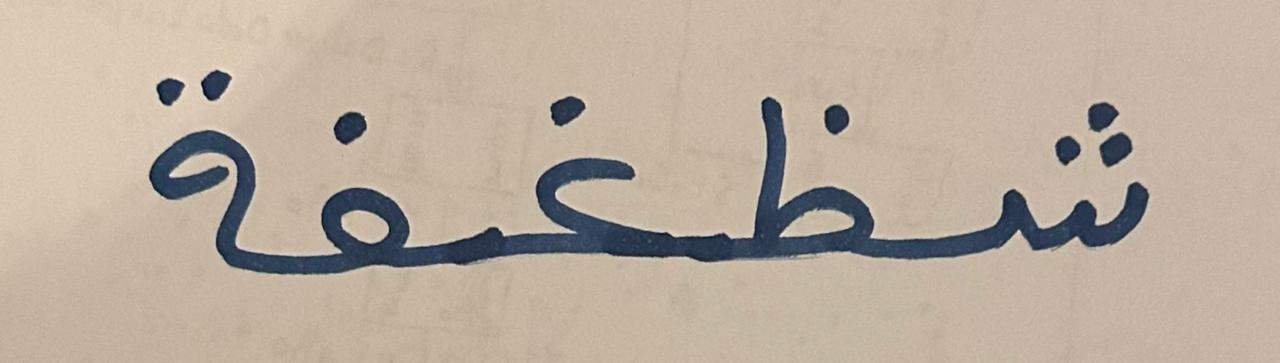feh: (283, 51, 450, 315)
ghain: (455, 7, 703, 316)
tah: (915, 36, 1193, 317)
thal: (107, 7, 279, 302)
zain: (707, 25, 911, 323)
